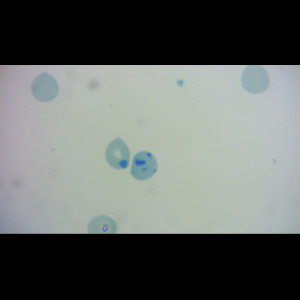aggregate reticulocyte: (130, 150, 159, 182)
erythrocyte: (239, 65, 272, 96), (104, 136, 132, 171), (30, 70, 60, 102)
